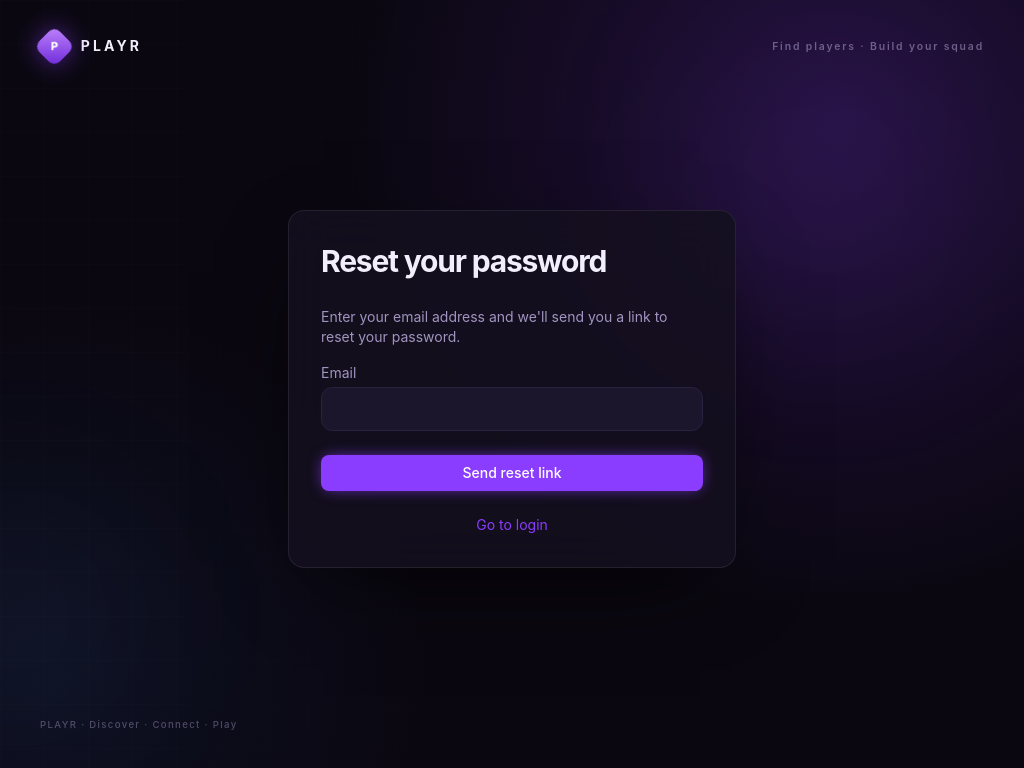
Test: ForgotPasswordPage › sends the reset request and shows a confirmation message
The image size is (1024, 768).
Type "someone@example.com" into the field labelled "Email" at (512,409), box [321,387,703,431]
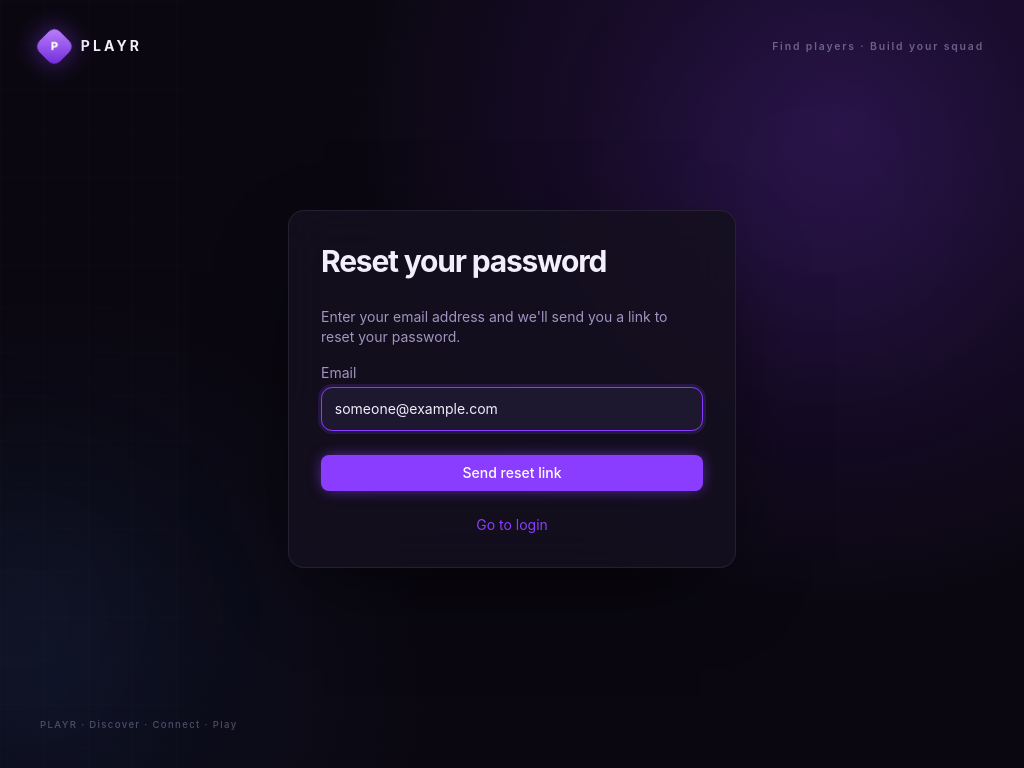
Click the button "Send reset link" at (512,473), box [321,455,703,491]
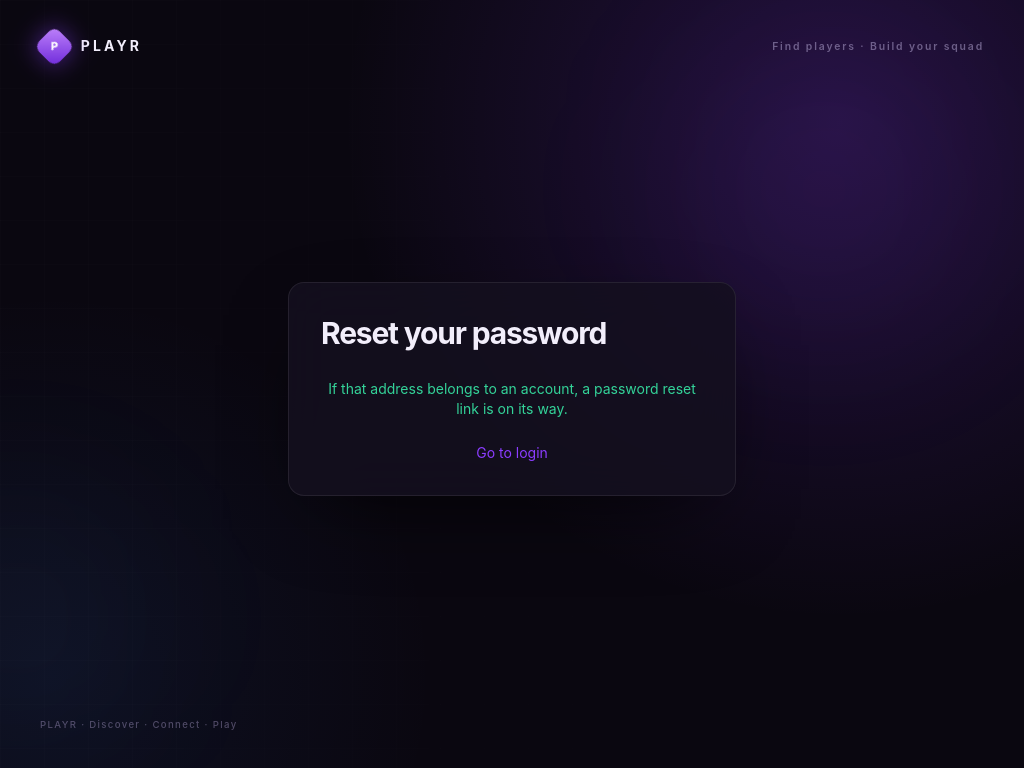
Now the text "If that address belongs to an account, a password reset link is on its way." is shown, box [321,379,703,419]
